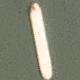ship: (3, 0, 6, 40)
